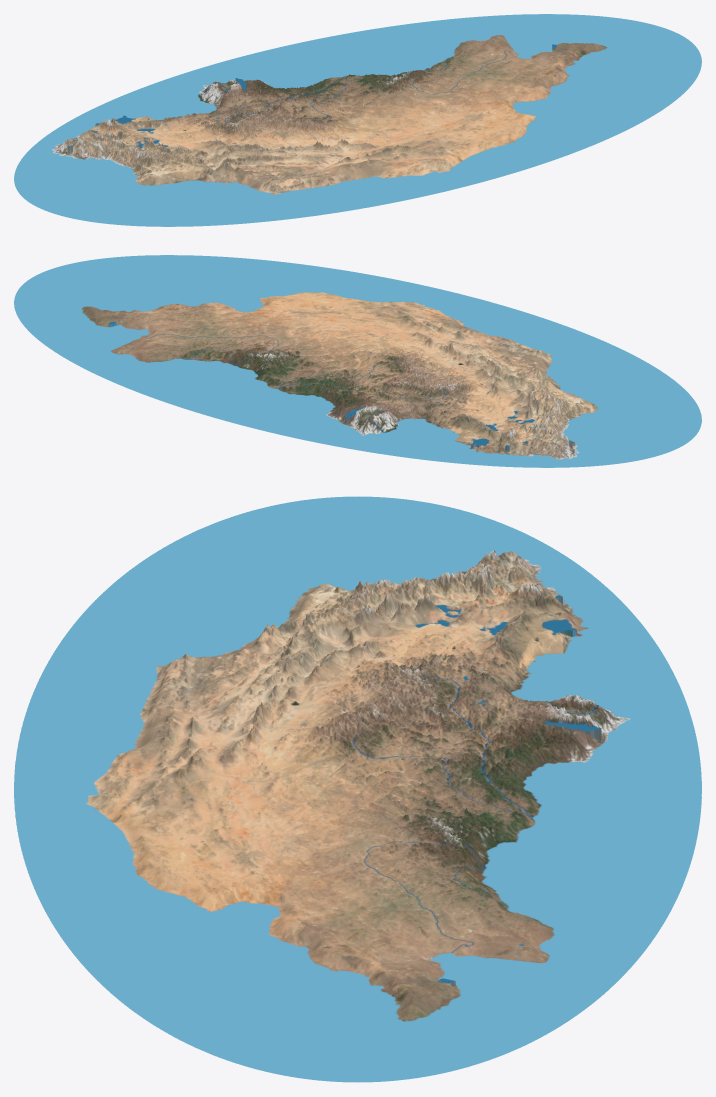
File: MNG-previa-terrain.glb
3 views of the same model, one above another, from view 1: azimuth 30°, elevation 25°; view 2: azimuth 150°, elevation 25°; view 3: azimuth 270°, elevation 25° (orthographic). The views are drawn at different scales.
Visible parts, largest first — view 1: Mongólia; view 2: Mongólia; view 3: Mongólia.
Boxes of the visible parts, bbox=[...] form: Mongólia: bbox=[14, 14, 701, 226]; Mongólia: bbox=[14, 255, 701, 467]; Mongólia: bbox=[14, 496, 701, 1082].
Size of the model in its own units: 2.16 by 0.0497 by 1.07.
1 material, 1 textured.
